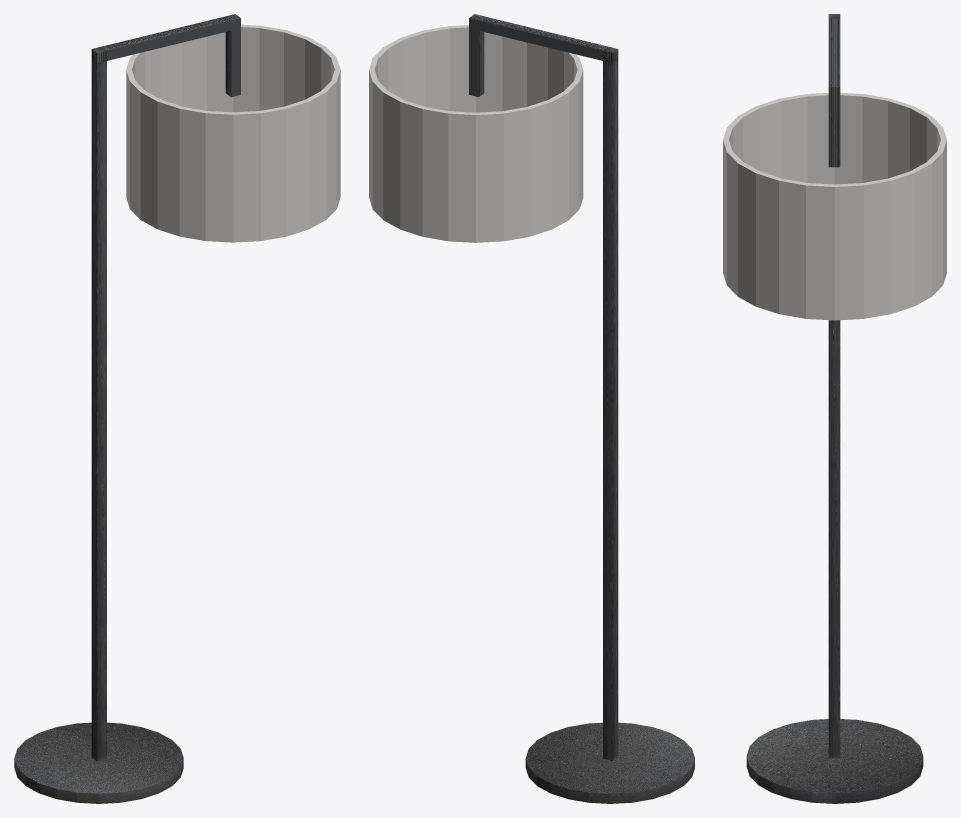
Rendered from lamp.obj.
The picture shows the model from 3 angles, left to right: view 1: azimuth 30°, elevation 25°; view 2: azimuth 150°, elevation 25°; view 3: azimuth 270°, elevation 25°; orthographic projection. The views are drawn at different scales.
Visible parts, largest first — view 1: lamp.1; view 2: lamp.1; view 3: lamp.1.
Part boxes in pixels (left/top/right/bottom): lamp.1: left=14, top=14, right=340, bottom=803; lamp.1: left=369, top=14, right=694, bottom=803; lamp.1: left=723, top=14, right=946, bottom=803.
Bounding box in the file's own units: 369 × 843 × 228.
2 materials, 1 textured.
